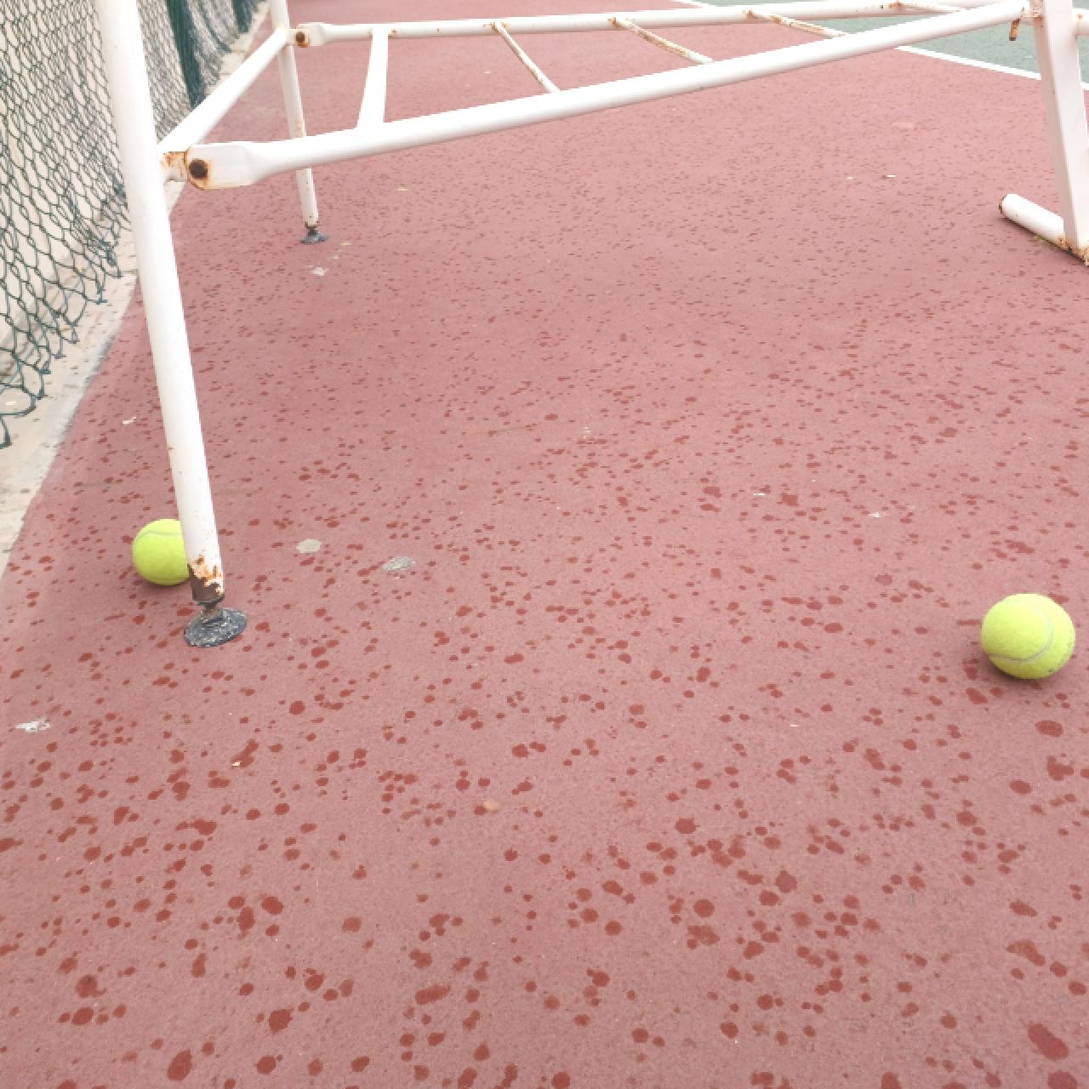tennis-ball: (982, 592, 1078, 682), (133, 517, 201, 589)
